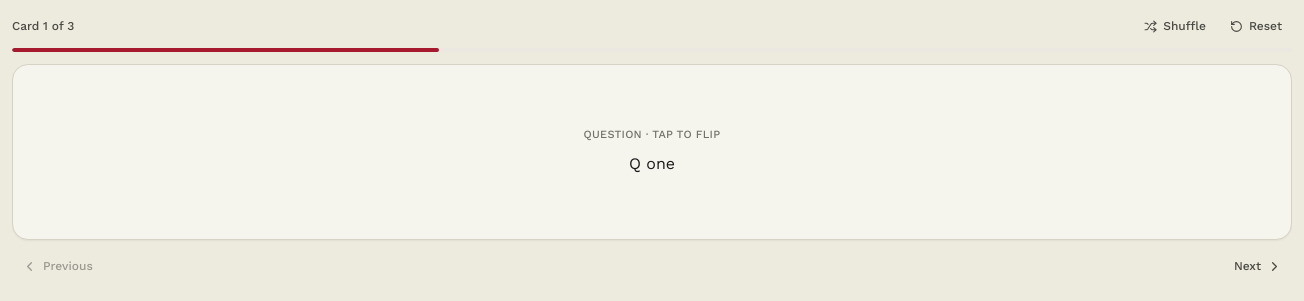
Test case: FlashcardViewer › unflips when moving to another card
The image size is (1304, 301).
Click the button with aria-label "reveal answer". click: (652, 152)
box: [12,64,1292,240]
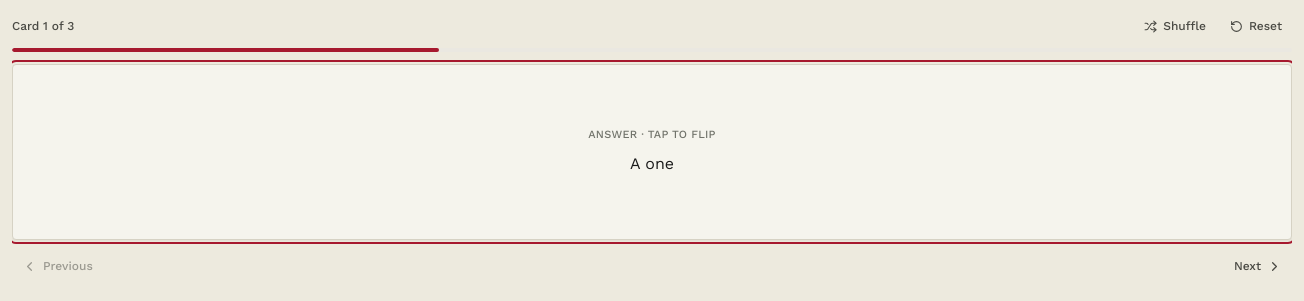
Expected: the text "A one" is shown, [630,154,674,173]
Click the button with aria-label "Next card". click: (1258, 266)
box: [1224,252,1292,280]
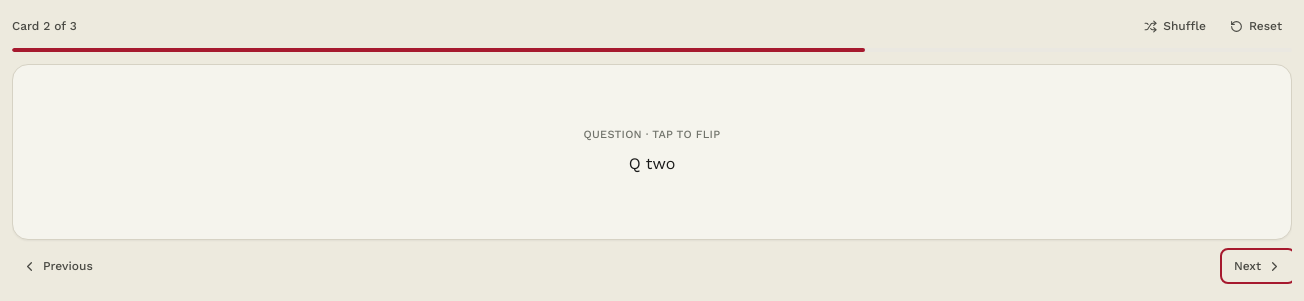
Expected: the text "Q two" is shown, [629,154,675,173]
